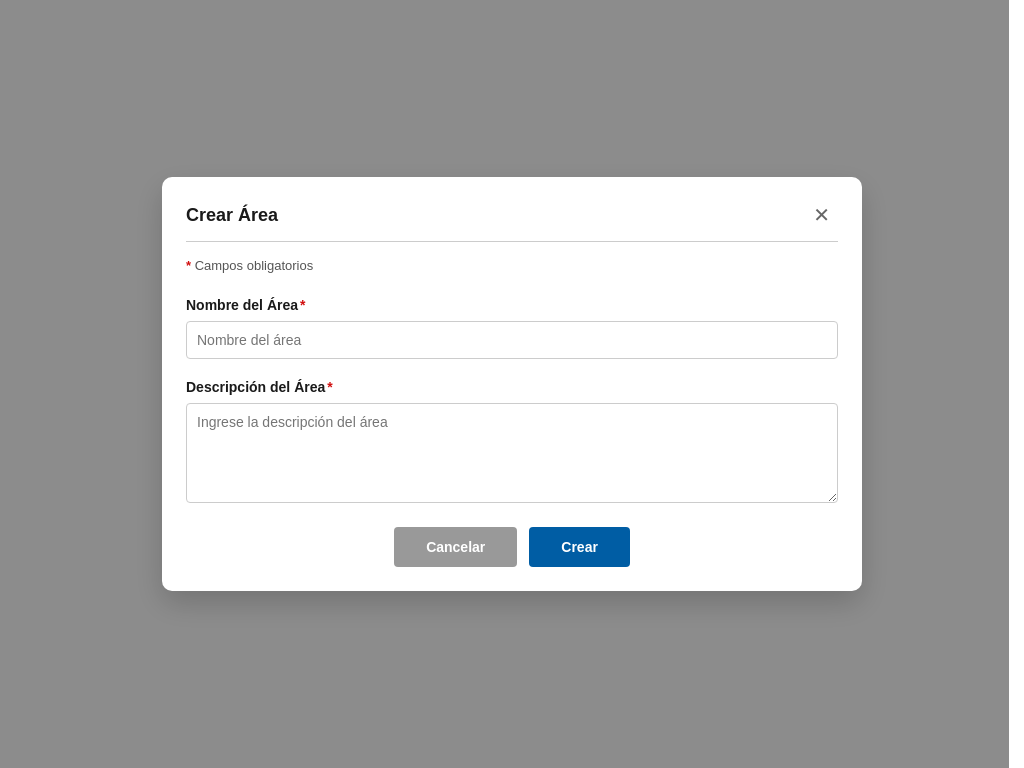
it: CreateAreas Modal › valida que descripción sea requerida
In the field with placeholder "Nombre del Área": x=512, y=340 [186, 321, 838, 359], type "Administración"
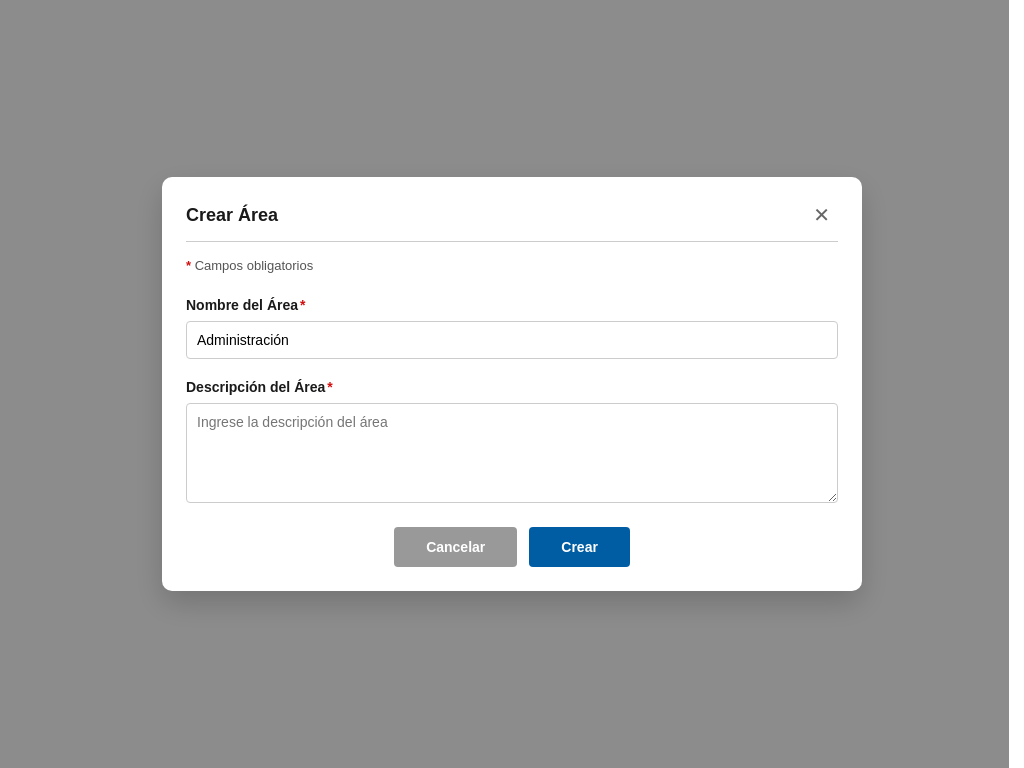
Submit the form, box [186, 258, 838, 567]
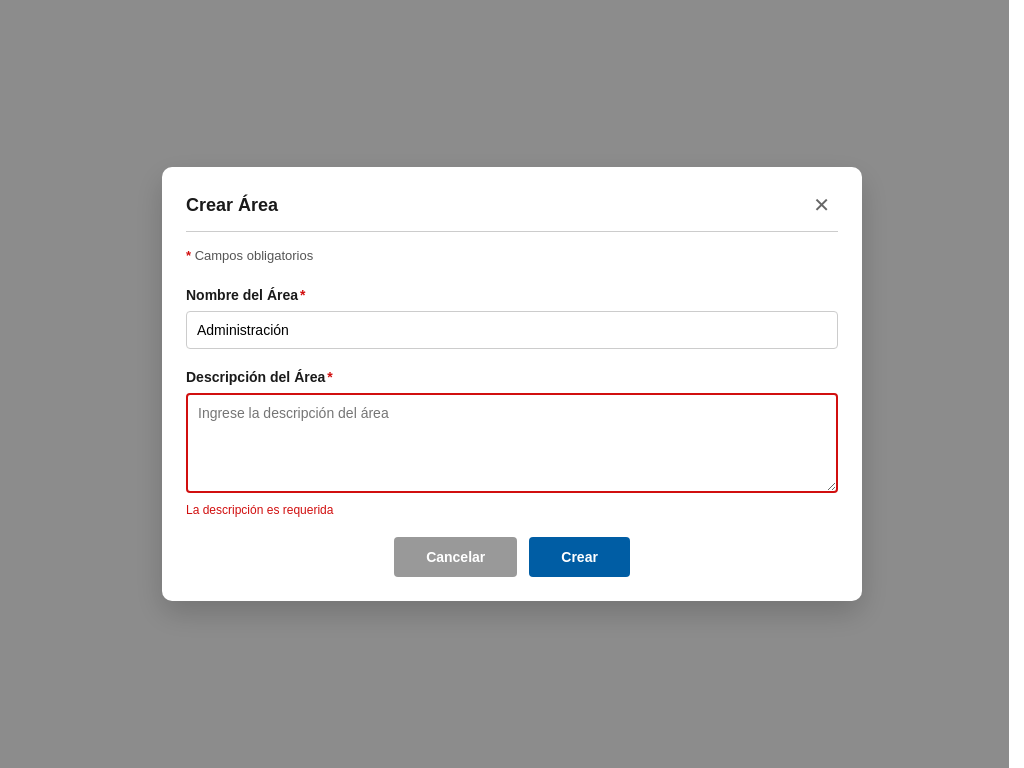
Result: the text "La descripción es requerida" is shown at [186, 503, 333, 517]
